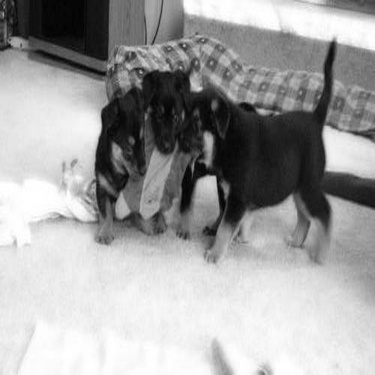dog: (180, 27, 345, 269), (141, 62, 268, 251), (89, 81, 156, 250)
